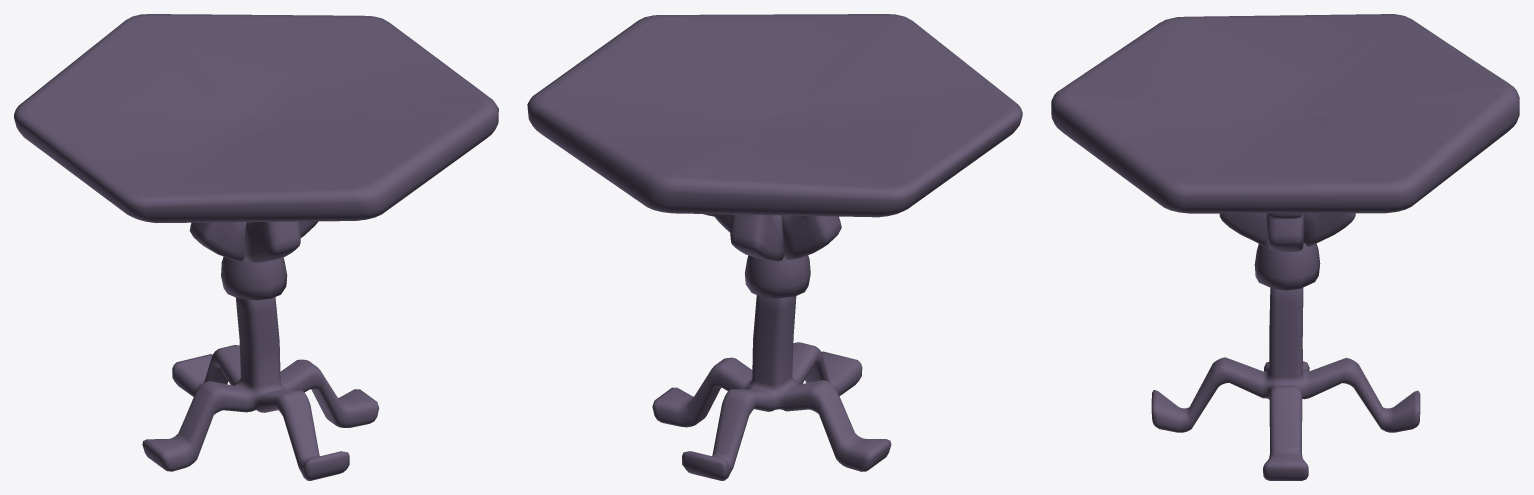
File: Props_TableJardin.fbx
3 renders of one model, left to right at view 1: azimuth 30°, elevation 25°; view 2: azimuth 150°, elevation 25°; view 3: azimuth 270°, elevation 25°, orthographic. The views are drawn at different scales.
Parts seen in each view (by area): view 1: Table.001; view 2: Table.001; view 3: Table.001.
Boxes of the visible parts, box(x1,y1,x2,y2) form: Table.001: box(14, 14, 498, 480); Table.001: box(527, 14, 1022, 480); Table.001: box(1051, 14, 1519, 480).
Bounding box in the file's own units: 1.34 × 1.47 × 1.19.
